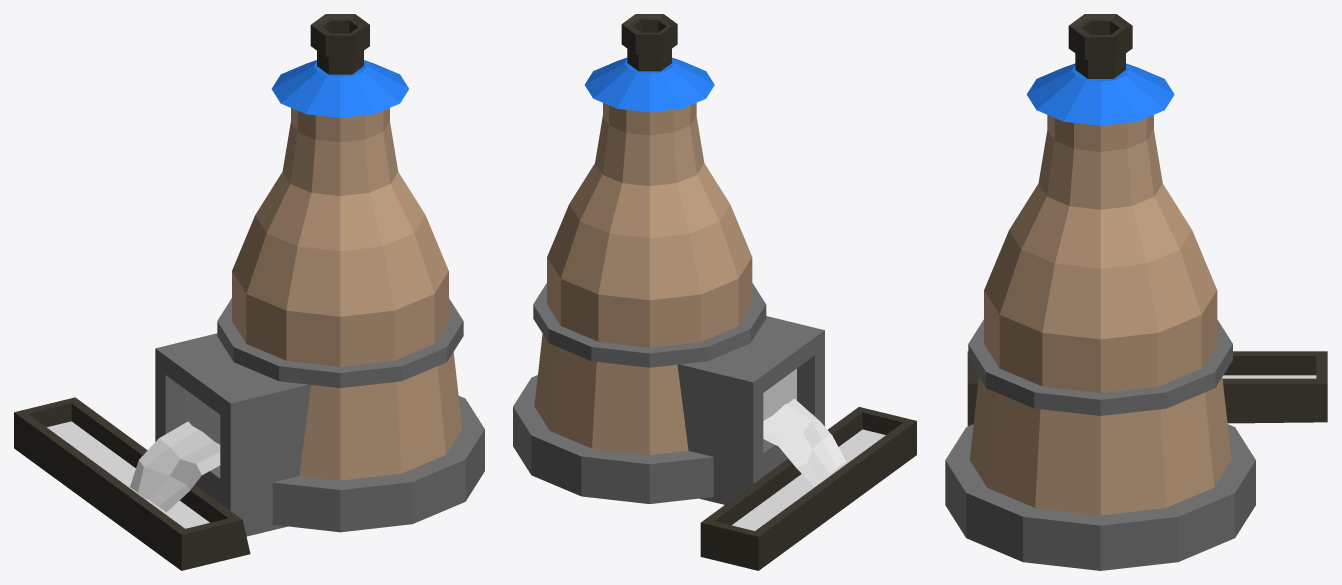
Rendered from Smelter LvL 1.fbx.
3 renders of one model, left to right at view 1: azimuth 30°, elevation 25°; view 2: azimuth 150°, elevation 25°; view 3: azimuth 270°, elevation 25°, orthographic. The views are drawn at different scales.
Parts seen in each view (by area): view 1: Smelter, Team Color Obj.003; view 2: Smelter, Team Color Obj.003; view 3: Smelter, Team Color Obj.003.
Part boxes in pixels (box(x1,y1,x2,y2)): Smelter: box(14, 14, 484, 570); Team Color Obj.003: box(271, 60, 408, 117); Smelter: box(513, 14, 916, 570); Team Color Obj.003: box(584, 57, 714, 112); Smelter: box(945, 14, 1327, 570); Team Color Obj.003: box(1026, 63, 1174, 125).
Bounding box in the file's own units: 99.2 × 124 × 88.34.
